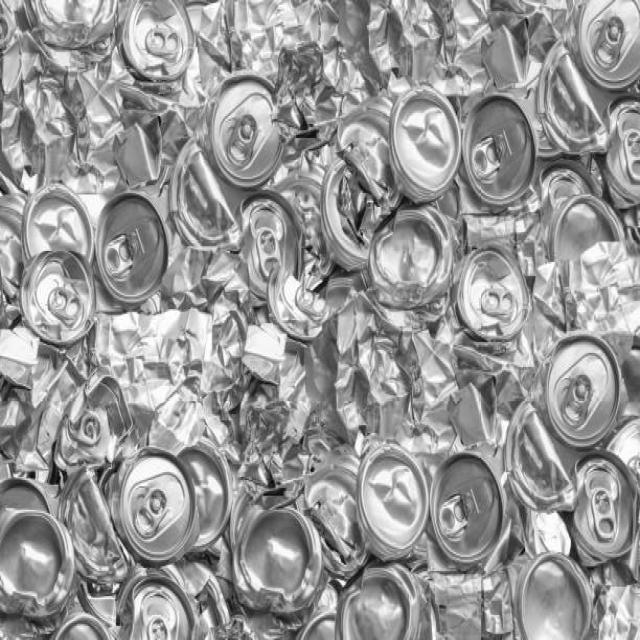metal: (10, 44, 635, 640)
